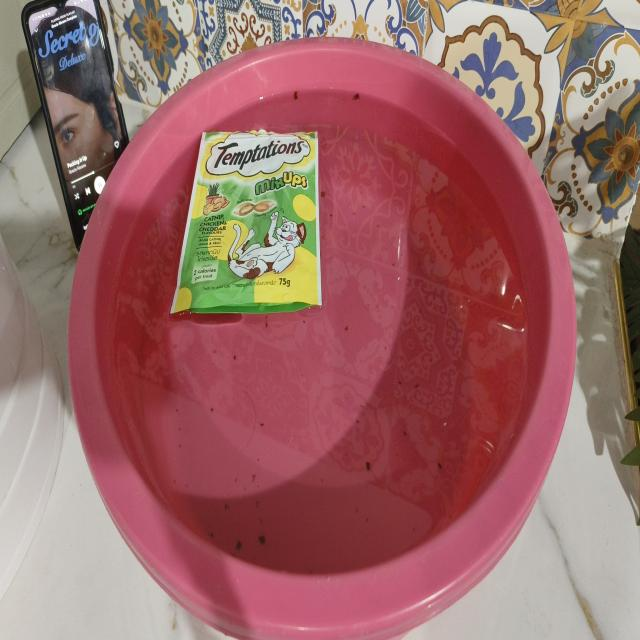Plastic Wrapper: (161, 111, 344, 353)
